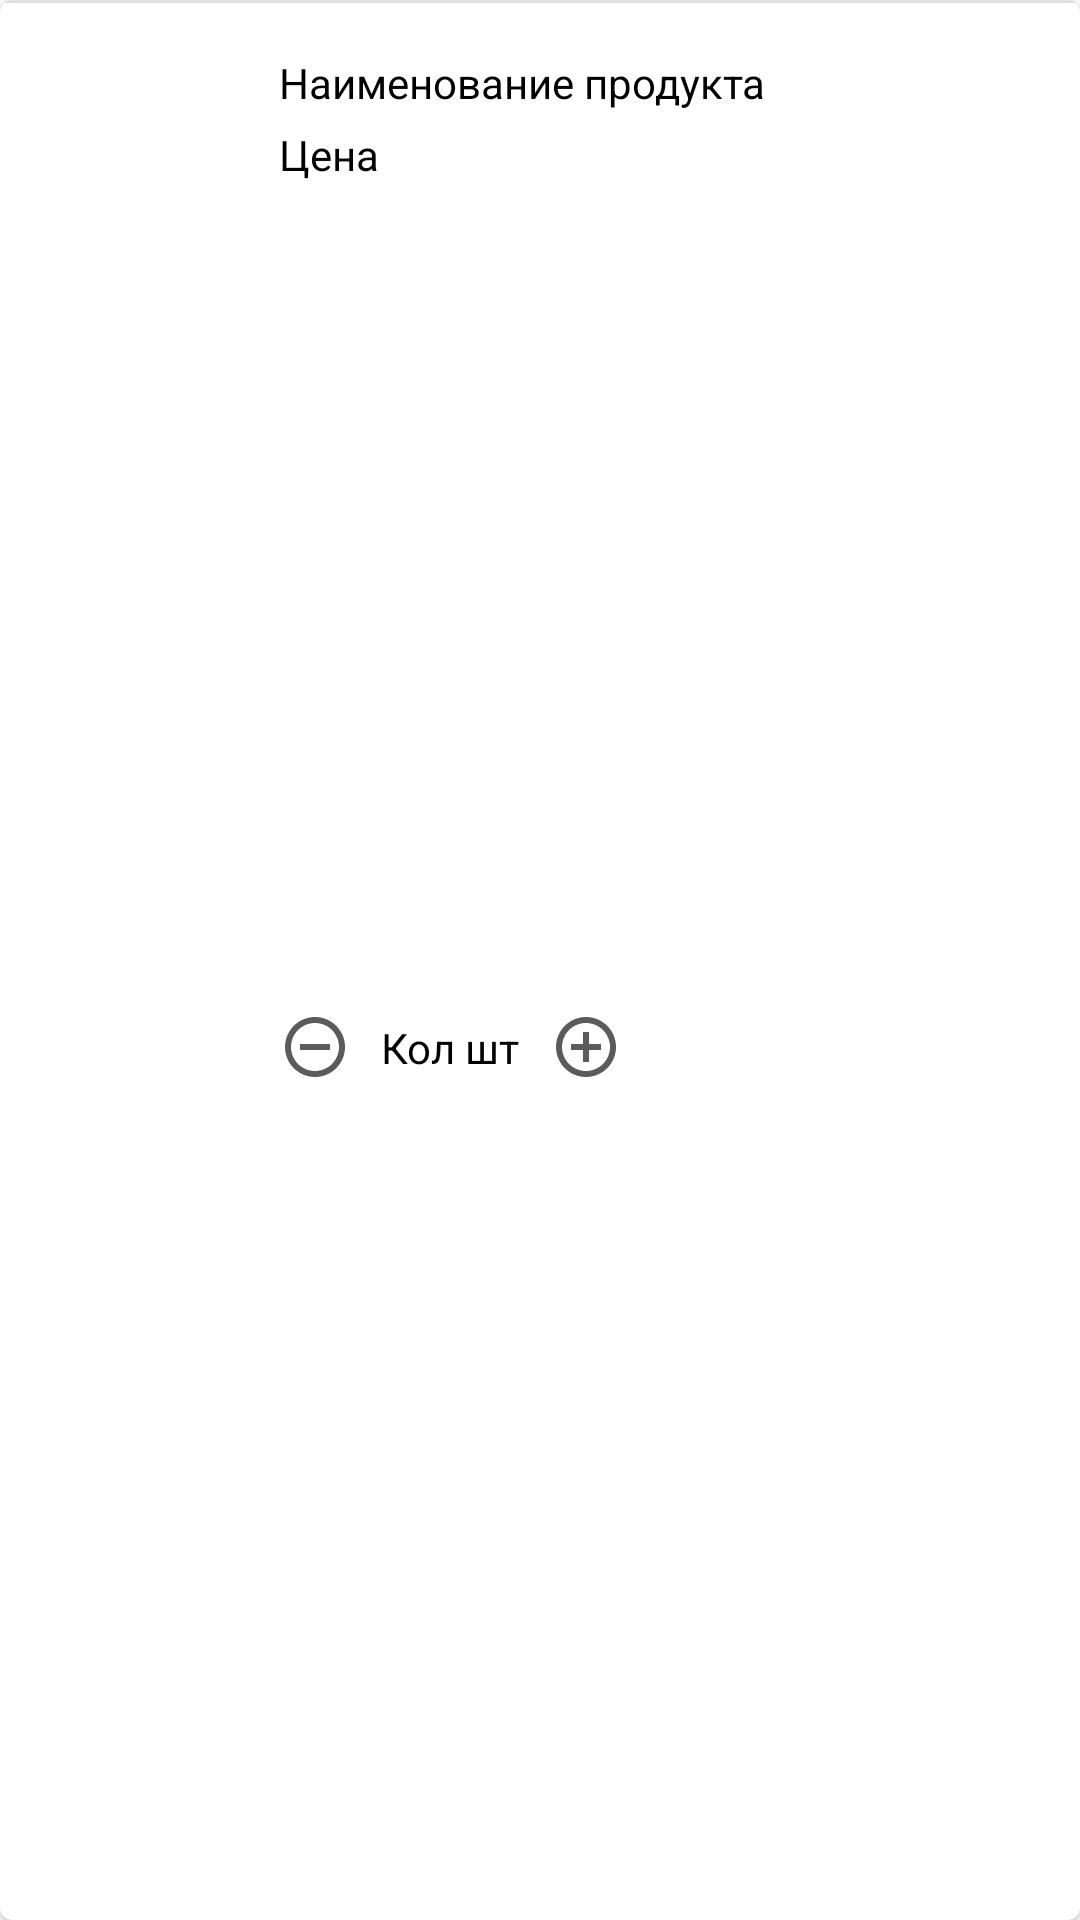

Named icons in this screenshot (1080x1920) and their bounding boxes, (x1, y1, x2, y2):
Добавить: (556, 1017, 616, 1077)
Убрать: (285, 1017, 345, 1077)
